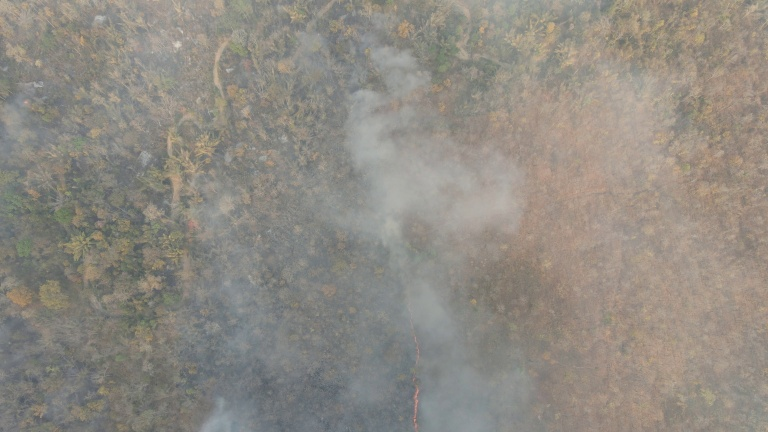fire: (403, 325, 428, 432)
smoke: (329, 85, 513, 253), (406, 278, 530, 431)
